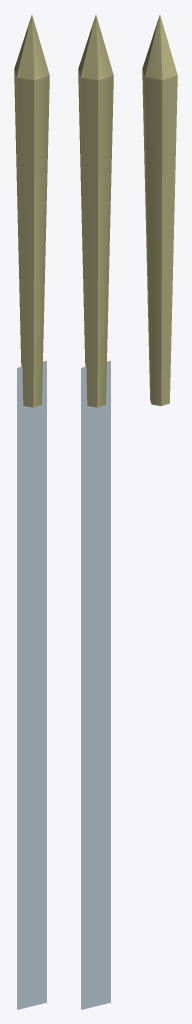
Rendered from 2063_RapidFire_Projectile.fbx.
3 renders of one model, left to right at view 1: azimuth 30°, elevation 25°; view 2: azimuth 210°, elevation 25°; view 3: azimuth 270°, elevation 25°, orthographic.
Parts seen in each view (by area): view 1: PART_RapidFireShortTaperedTail, PART_RapidFireSmallMetalTracer; view 2: PART_RapidFireShortTaperedTail, PART_RapidFireSmallMetalTracer; view 3: PART_RapidFireSmallMetalTracer.
Boxes of the visible parts, left/top/right/bottom form: PART_RapidFireShortTaperedTail: left=17, top=360, right=46, bottom=1009; PART_RapidFireSmallMetalTracer: left=14, top=15, right=49, bottom=407; PART_RapidFireShortTaperedTail: left=81, top=360, right=110, bottom=1009; PART_RapidFireSmallMetalTracer: left=78, top=15, right=113, bottom=407; PART_RapidFireSmallMetalTracer: left=142, top=15, right=177, bottom=406.
Size of the model in its own units: 3.57 by 102 by 3.32.
